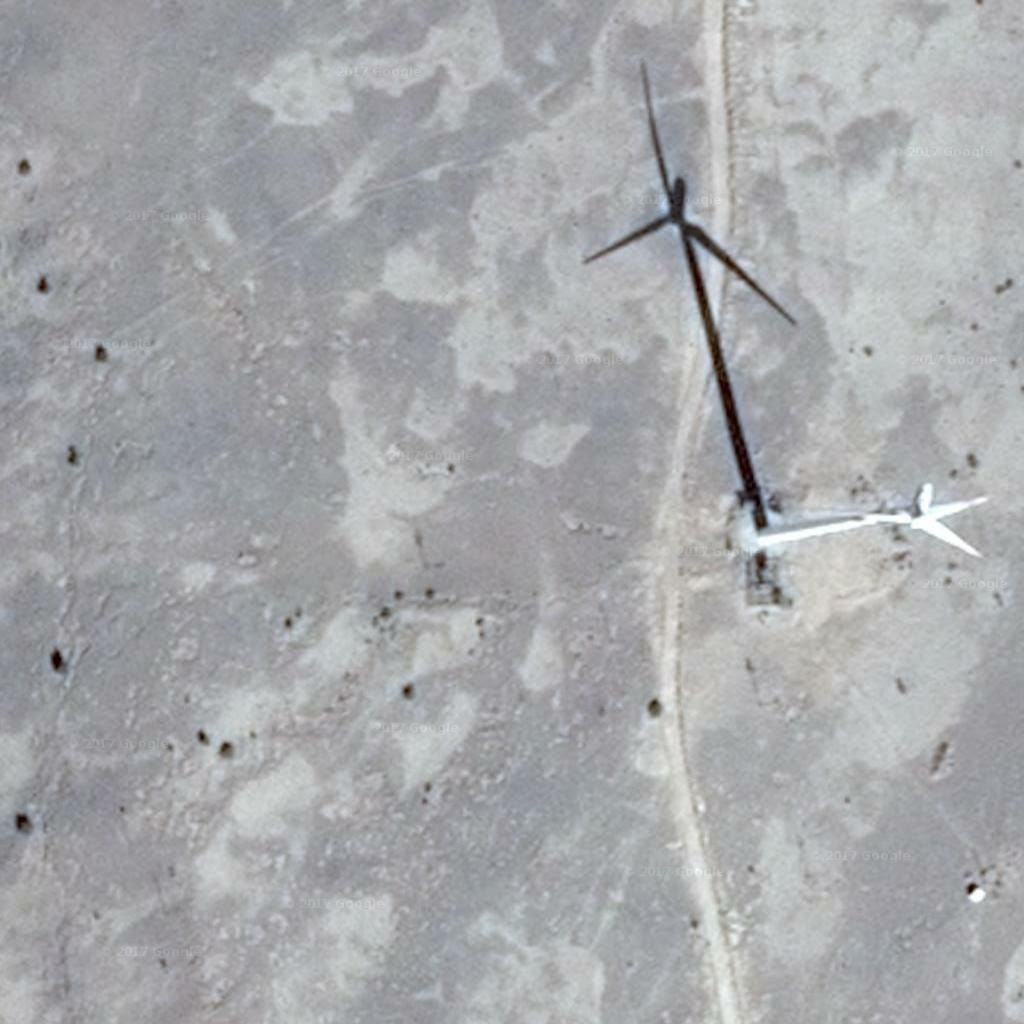Windmill: (576, 69, 782, 532)
